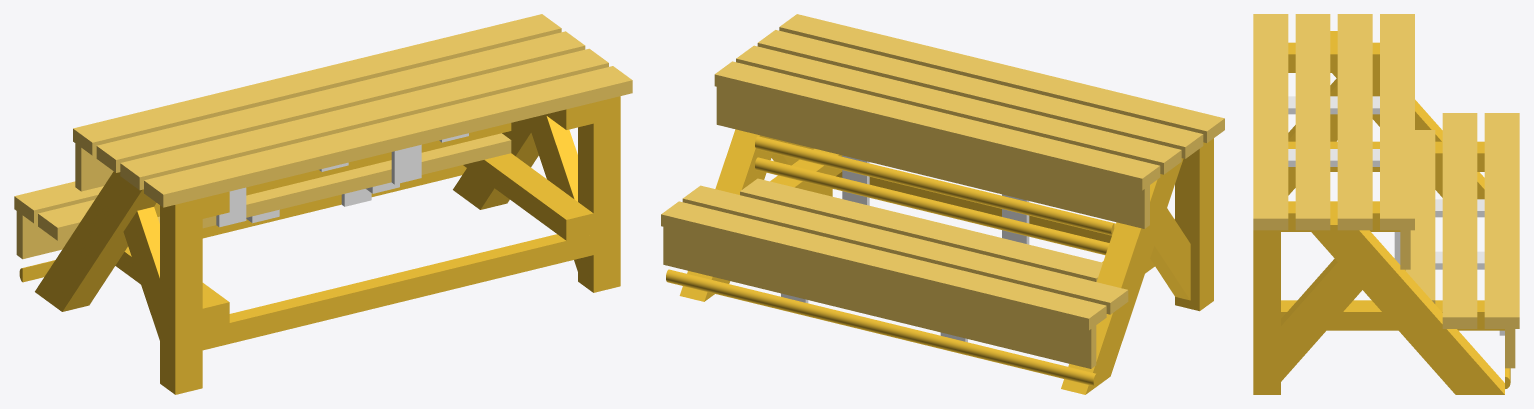
The picture shows the model from 3 angles, left to right: view 1: azimuth 30°, elevation 25°; view 2: azimuth 150°, elevation 25°; view 3: azimuth 270°, elevation 25°; orthographic projection. The views are drawn at different scales.
Visible parts, largest first — view 1: mesh1_mesh1-geometry, mesh9_mesh9-geometry, mesh11_mesh11-geometry, mesh13_mesh13-geometry, mesh7_mesh7-geometry, mesh15_mesh15-geometry, mesh5_mesh5-geometry, mesh17_mesh17-geometry, mesh3_mesh3-geometry; view 2: mesh1_mesh1-geometry, mesh5_mesh5-geometry, mesh13_mesh13-geometry, mesh9_mesh9-geometry, mesh15_mesh15-geometry, mesh11_mesh11-geometry, mesh17_mesh17-geometry, mesh7_mesh7-geometry; view 3: mesh1_mesh1-geometry, mesh13_mesh13-geometry, mesh15_mesh15-geometry, mesh9_mesh9-geometry, mesh7_mesh7-geometry, mesh17_mesh17-geometry, mesh3_mesh3-geometry.
Boxes of the visible parts, left/top/right/bottom form: mesh1_mesh1-geometry: left=14, top=14, right=632, bottom=259; mesh9_mesh9-geometry: left=160, top=96, right=620, bottom=394; mesh11_mesh11-geometry: left=202, top=234, right=593, bottom=350; mesh13_mesh13-geometry: left=35, top=115, right=541, bottom=311; mesh7_mesh7-geometry: left=115, top=153, right=593, bottom=329; mesh15_mesh15-geometry: left=123, top=114, right=577, bottom=340; mesh5_mesh5-geometry: left=19, top=123, right=511, bottom=282; mesh17_mesh17-geometry: left=216, top=133, right=468, bottom=227; mesh3_mesh3-geometry: left=202, top=103, right=593, bottom=218; mesh1_mesh1-geometry: left=661, top=14, right=1224, bottom=368; mesh5_mesh5-geometry: left=666, top=136, right=1114, bottom=386; mesh13_mesh13-geometry: left=679, top=129, right=1183, bottom=394; mesh9_mesh9-geometry: left=818, top=138, right=1213, bottom=311; mesh15_mesh15-geometry: left=771, top=139, right=1190, bottom=300; mesh11_mesh11-geometry: left=836, top=172, right=1115, bottom=242; mesh17_mesh17-geometry: left=781, top=155, right=1029, bottom=342; mesh7_mesh7-geometry: left=770, top=148, right=1174, bottom=273; mesh1_mesh1-geometry: left=1253, top=14, right=1519, bottom=368; mesh13_mesh13-geometry: left=1310, top=31, right=1504, bottom=394; mesh15_mesh15-geometry: left=1281, top=78, right=1361, bottom=381; mesh9_mesh9-geometry: left=1253, top=230, right=1280, bottom=394; mesh7_mesh7-geometry: left=1281, top=141, right=1504, bottom=330; mesh17_mesh17-geometry: left=1288, top=96, right=1504, bottom=335; mesh3_mesh3-geometry: left=1281, top=42, right=1400, bottom=231.
Size of the model in its own units: 0.8236 by 0.3409 by 0.4532.
